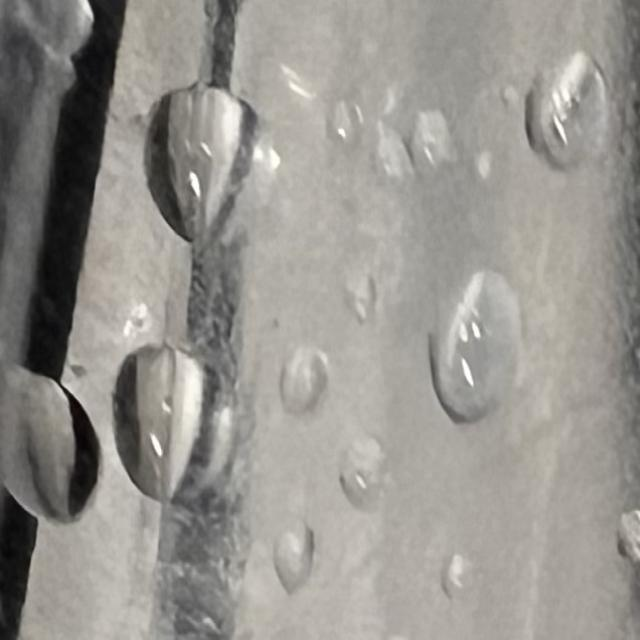raindrop: (138, 92, 279, 246), (108, 359, 254, 507), (426, 265, 541, 422), (6, 352, 105, 520), (518, 52, 609, 164), (269, 347, 355, 436), (324, 419, 390, 505), (402, 111, 468, 177), (265, 506, 316, 583), (362, 130, 418, 196), (435, 548, 481, 620), (327, 101, 379, 153), (348, 275, 382, 309)
